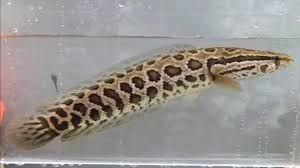Snakehead: (16, 37, 297, 166)
